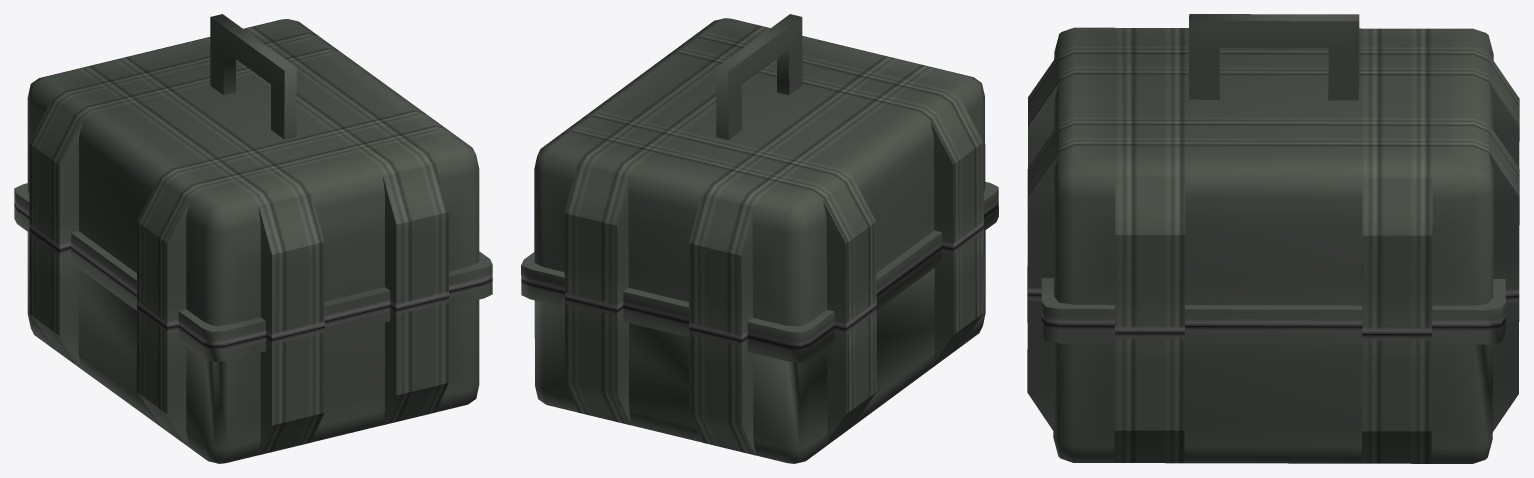
File: ProtectiveCaseBulky_Ground.fbx
The picture shows the model from 3 angles, left to right: view 1: azimuth 30°, elevation 25°; view 2: azimuth 150°, elevation 25°; view 3: azimuth 270°, elevation 25°; orthographic projection. The views are drawn at different scales.
Visible parts, largest first — view 1: ProtectiveCaseBulky_Ground; view 2: ProtectiveCaseBulky_Ground; view 3: ProtectiveCaseBulky_Ground.
Boxes of the visible parts, x1,y1,x2,y2 form: ProtectiveCaseBulky_Ground: (14,14,492,463); ProtectiveCaseBulky_Ground: (521,14,998,463); ProtectiveCaseBulky_Ground: (1027,14,1519,463).
Size of the model in its own units: 1.81 by 1.83 by 2.16.
